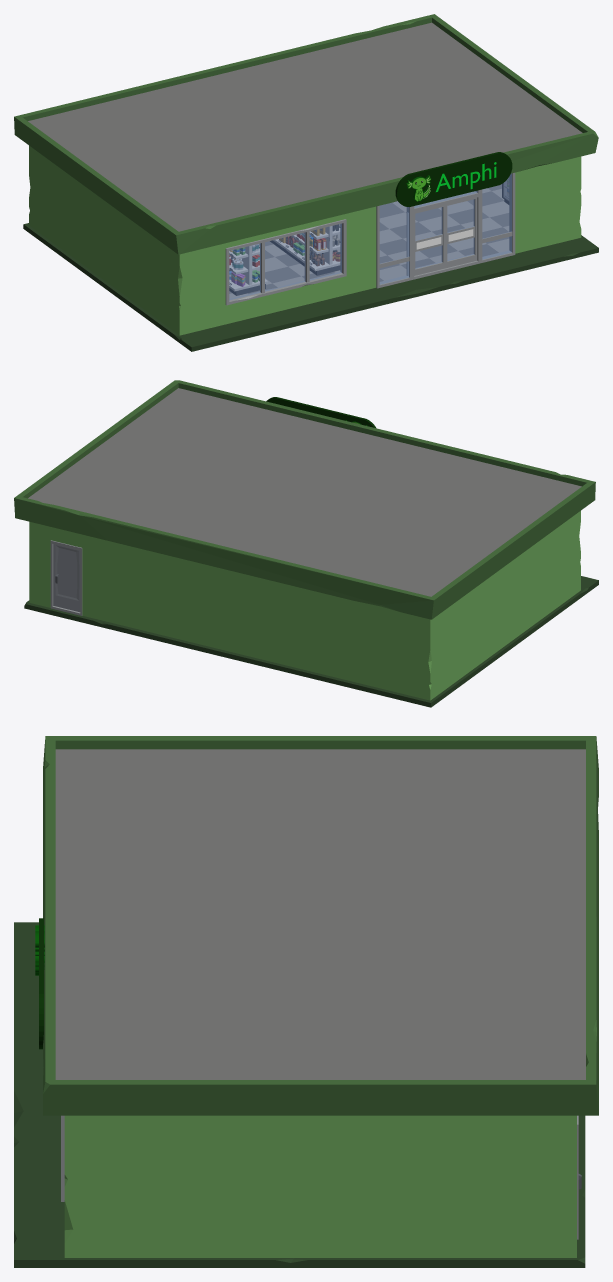
File: Shop_Amphi.fbx
The picture shows the model from 3 angles, top to bottom: view 1: azimuth 30°, elevation 25°; view 2: azimuth 150°, elevation 25°; view 3: azimuth 270°, elevation 25°; orthographic projection. The views are drawn at different scales.
Parts seen in each view (by area): view 1: SM_Bld_Shop_02.001, SM_Bld_Shop_02, Plazik_Body, SM_Bld_Shop_02_Door_R, SM_Bld_Shop_02_Door_L, SM_Prop_ShopShelf_02.004, SM_Prop_ShopShelf_02.002, Text; view 2: SM_Bld_Shop_02.001, SM_Bld_Shop_02, SM_Bld_Shop_02_Door_Rear, Plazik_Body; view 3: SM_Bld_Shop_02.001, SM_Bld_Shop_02, Plazik_Body.
Part boxes in pixels (x1=…): SM_Bld_Shop_02.001: x1=14, y1=14, x2=598, y2=254; SM_Bld_Shop_02: x1=23, y1=145, x2=598, y2=351; Plazik_Body: x1=395, y1=152, x2=512, y2=206; SM_Bld_Shop_02_Door_R: x1=445, y1=197, x2=477, y2=268; SM_Bld_Shop_02_Door_L: x1=414, y1=205, x2=445, y2=275; SM_Prop_ShopShelf_02.004: x1=289, y1=224, x2=340, y2=275; SM_Prop_ShopShelf_02.002: x1=229, y1=244, x2=267, y2=295; Text: x1=436, y1=162, x2=496, y2=191; SM_Bld_Shop_02.001: x1=14, y1=380, x2=595, y2=619; SM_Bld_Shop_02: x1=24, y1=511, x2=598, y2=707; SM_Bld_Shop_02_Door_Rear: x1=53, y1=544, x2=80, y2=612; Plazik_Body: x1=266, y1=397, x2=375, y2=427; SM_Bld_Shop_02.001: x1=43, y1=736, x2=598, y2=1115; SM_Bld_Shop_02: x1=14, y1=922, x2=585, y2=1267; Plazik_Body: x1=35, y1=918, x2=44, y2=1049.
Size of the model in its own units: 1548 by 409 by 1094.
